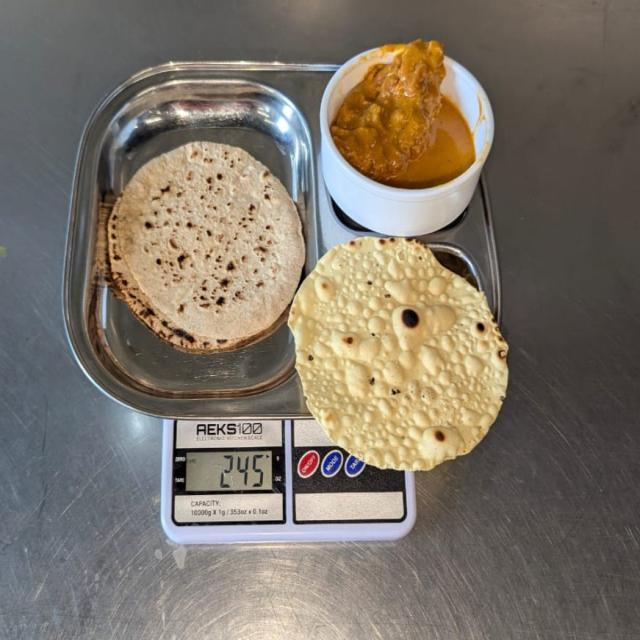Chapati: (108, 140, 307, 349)
Chicken Curry: (332, 37, 478, 192)
Papad: (288, 234, 510, 474)
